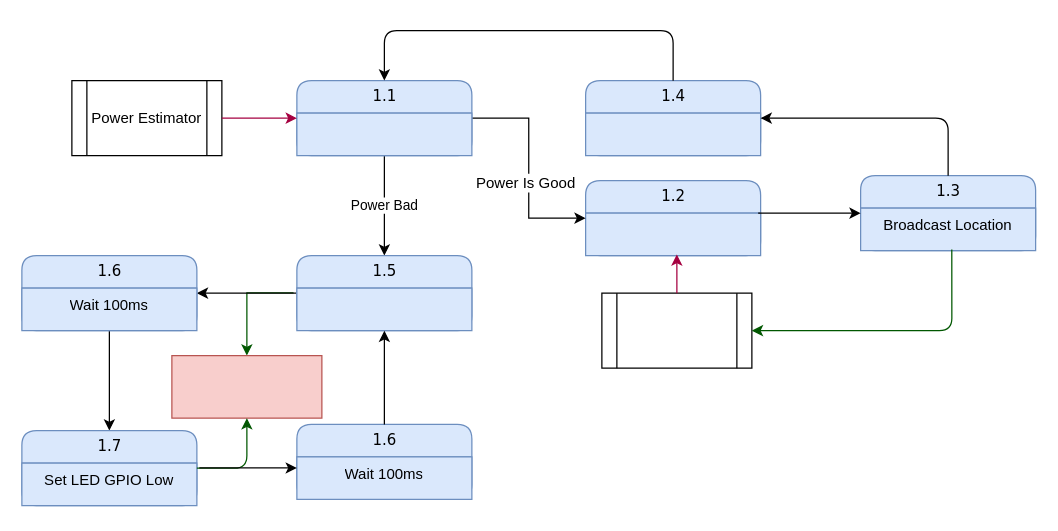
Image size: 1058x531. Some labels were removed from this diagram. Here are the shapes that lost their labels. From the top down, the centre of each, then its label:
point 384,134: Check if Power Below 20%
point 672,134: Wait 200ms
point 672,234: Get Location
point 384,309: Set LED GPIO High
point 676,330: Communication Parser
point 246,386: LED GPIO
